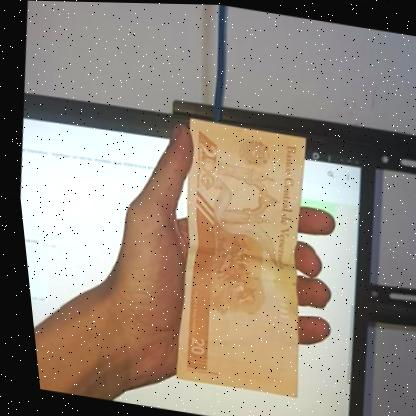twenty-back-vef: (145, 115, 326, 399)
